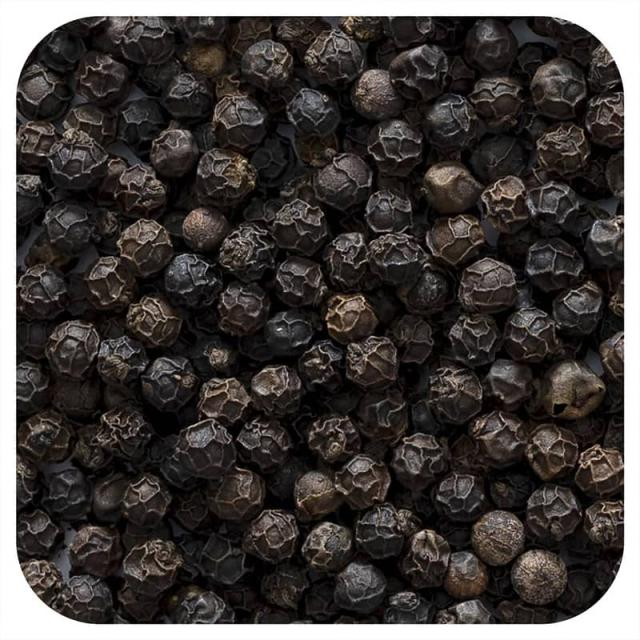Black pepper: (16, 15, 624, 622)
